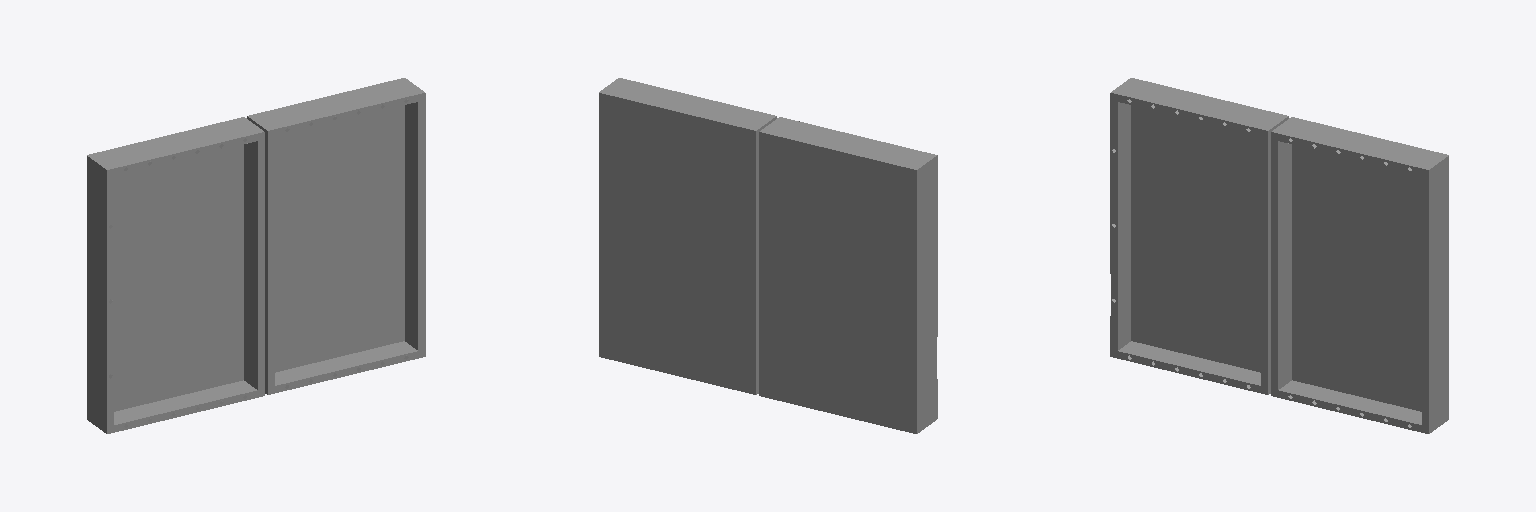
The model's file is table.obj.
3 renders of one model, left to right at view 1: azimuth 30°, elevation 25°; view 2: azimuth 150°, elevation 25°; view 3: azimuth 330°, elevation 25°, orthographic.
Parts seen in each view (by area): view 1: Table.001_Cube.000, Table.000_Cube.001, Table.002_Cube.002; view 2: Table.000_Cube.001, Table.001_Cube.000, Table.002_Cube.002; view 3: Table.001_Cube.000, Table.000_Cube.001, Table.002_Cube.002.
Part boxes in pixels (left/top/right/bottom): Table.001_Cube.000: left=247, top=78, right=425, bottom=394; Table.000_Cube.001: left=87, top=139, right=264, bottom=426; Table.002_Cube.002: left=87, top=117, right=264, bottom=433; Table.000_Cube.001: left=759, top=132, right=937, bottom=433; Table.001_Cube.000: left=599, top=78, right=776, bottom=394; Table.002_Cube.002: left=760, top=117, right=937, bottom=433; Table.001_Cube.000: left=1271, top=117, right=1448, bottom=433; Table.000_Cube.001: left=1110, top=100, right=1270, bottom=387; Table.002_Cube.002: left=1110, top=78, right=1288, bottom=394.
Size of the model in its own units: 13.37 by 10.6 by 1.5.